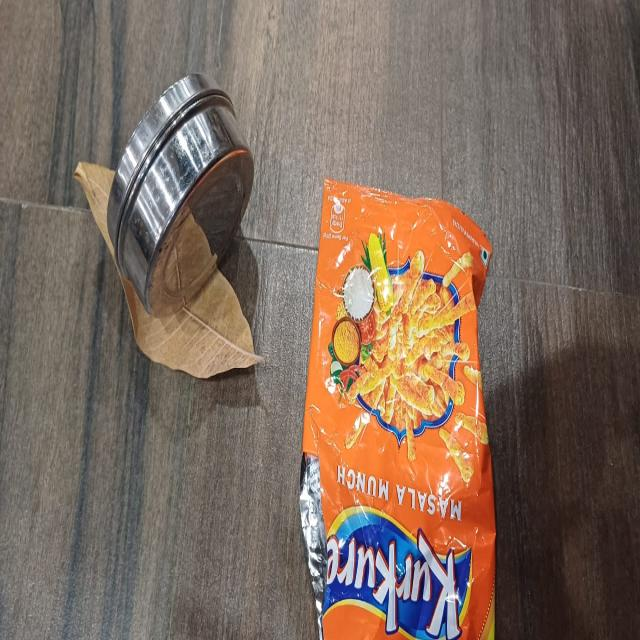Leaf-Bio: (73, 160, 266, 383)
Plastic-NonBio: (298, 175, 497, 640)
Steel-NonBio: (105, 73, 255, 323)
